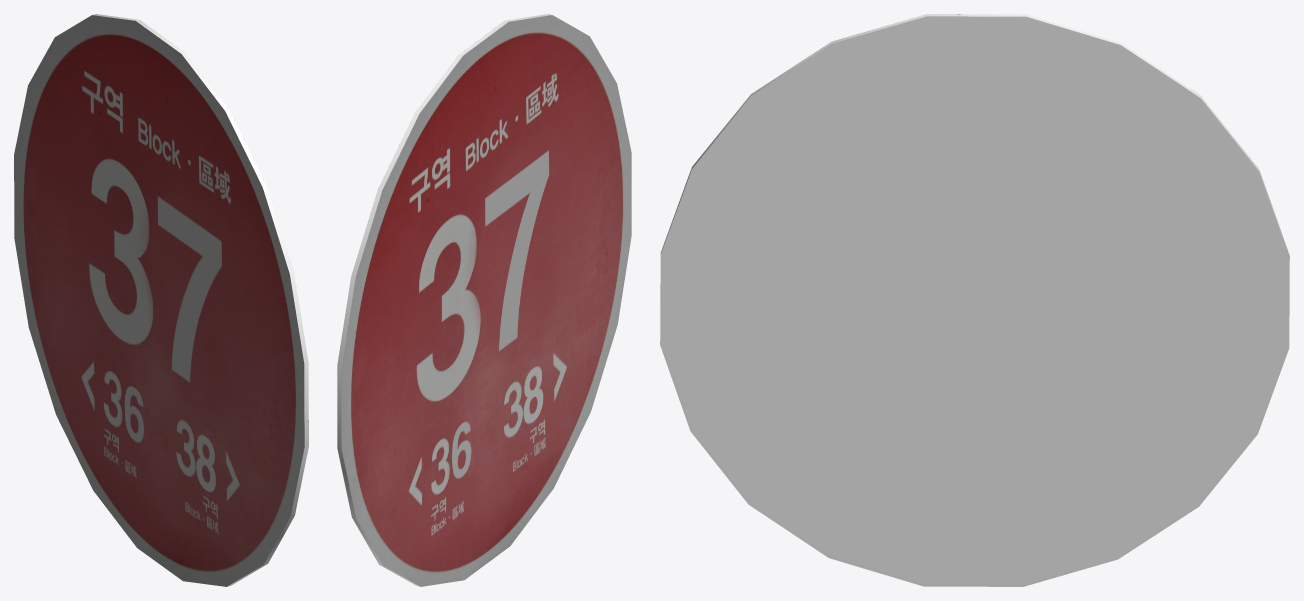
File: SM_013_Seat_5_5.fbx
3 renders of one model, left to right at view 1: azimuth 30°, elevation 25°; view 2: azimuth 150°, elevation 25°; view 3: azimuth 270°, elevation 25°, orthographic. The views are drawn at different scales.
Parts seen in each view (by area): view 1: SM_013_Seat_5_5; view 2: SM_013_Seat_5_5; view 3: SM_013_Seat_5_5.
Part boxes in pixels (<box>): SM_013_Seat_5_5: <box>14,14,308,586</box>; SM_013_Seat_5_5: <box>337,14,631,586</box>; SM_013_Seat_5_5: <box>660,14,1289,586</box>.
Size of the model in its own units: 0.3879 by 44.73 by 44.73.
1 material, 1 textured.
